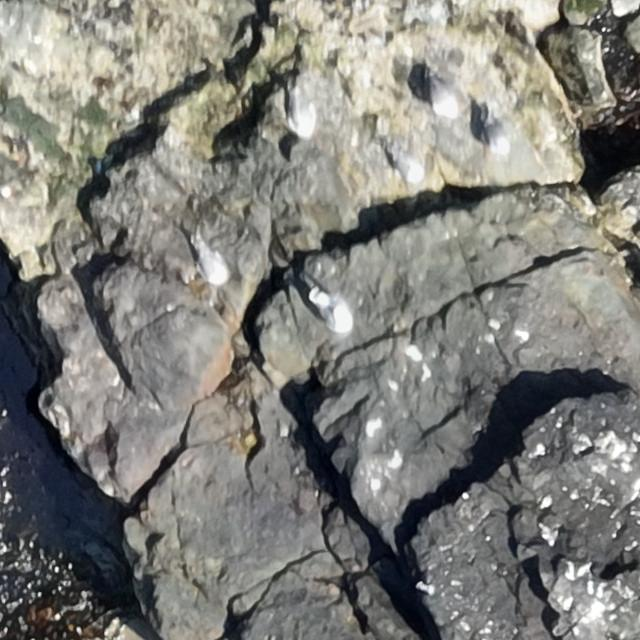umineko: (302, 272, 353, 338), (188, 232, 238, 288), (281, 80, 319, 141), (420, 70, 461, 119), (385, 145, 435, 185), (479, 106, 510, 162)
